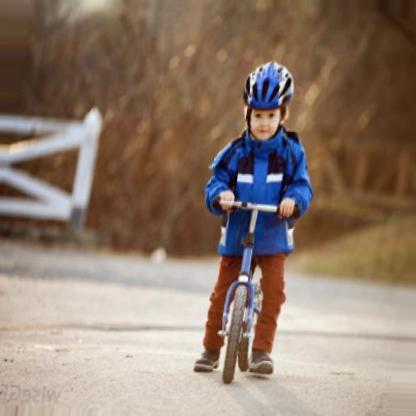with helmet: (243, 62, 295, 143)
